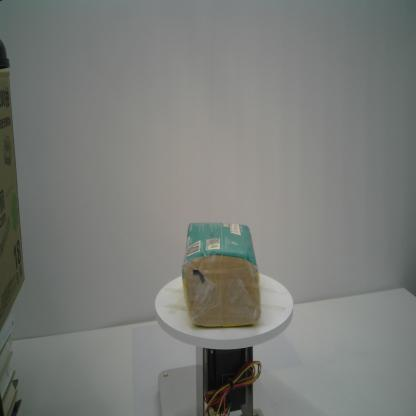Tissue: (181, 219, 262, 329)
